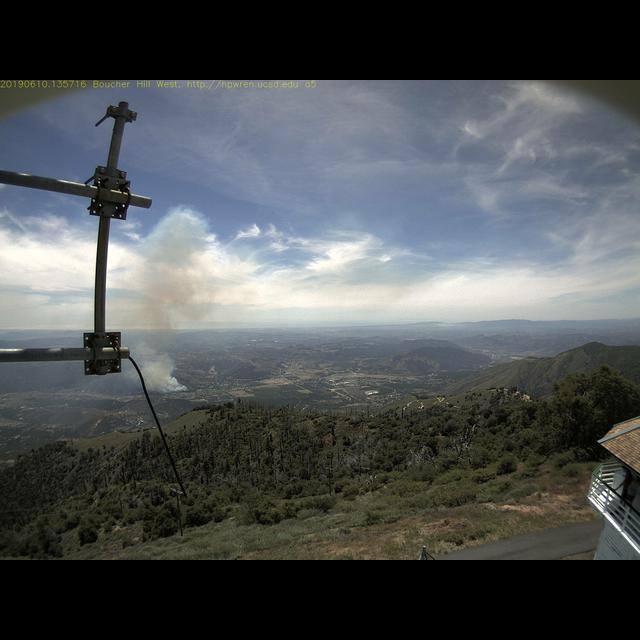Smoke: (135, 205, 224, 397)
